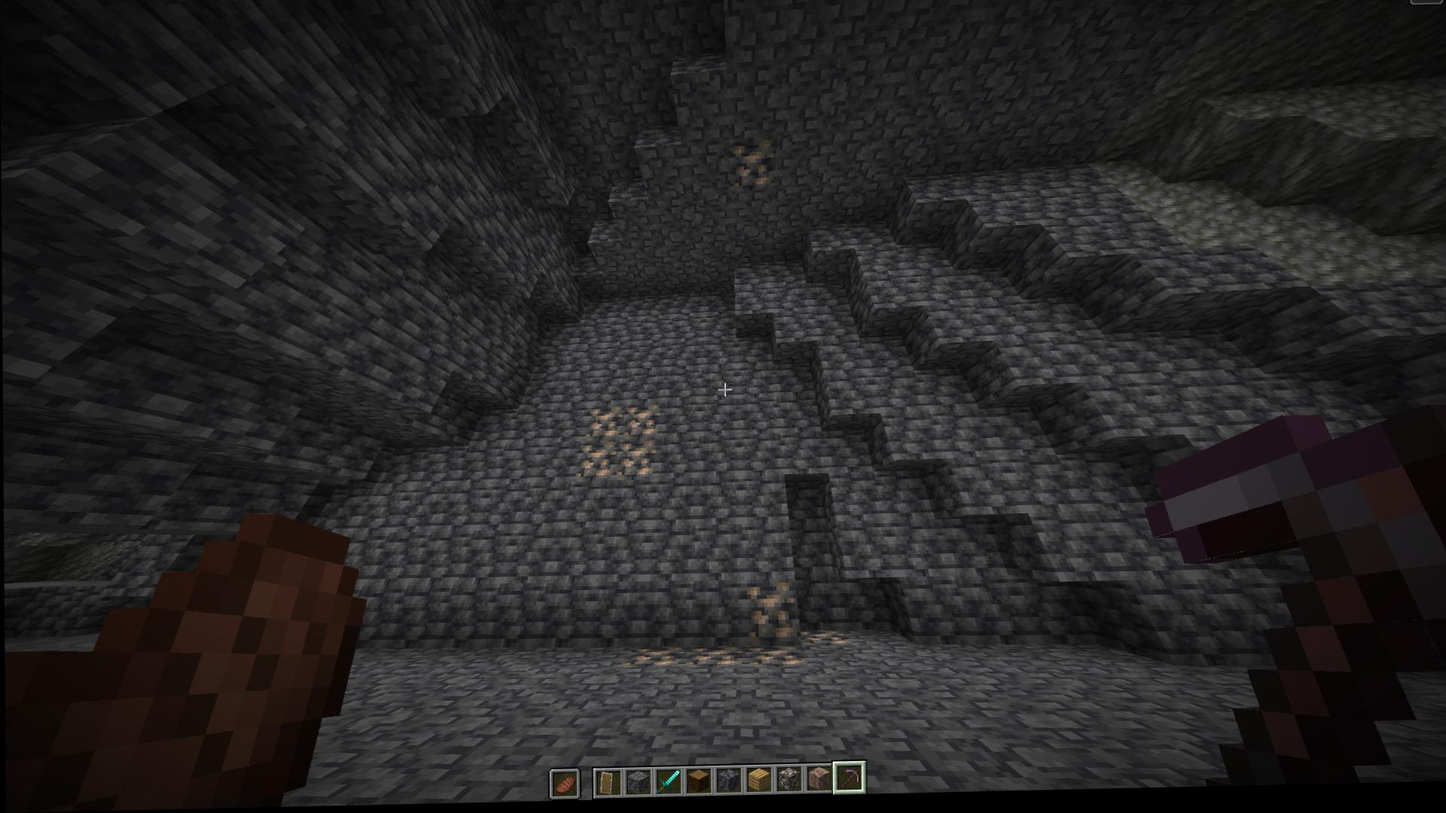iron ore: (744, 583, 797, 645), (729, 140, 775, 192), (579, 445, 617, 485), (742, 648, 804, 671), (584, 406, 623, 442), (619, 442, 655, 480), (626, 648, 683, 671), (622, 408, 658, 441), (686, 649, 739, 671), (800, 635, 846, 650)
